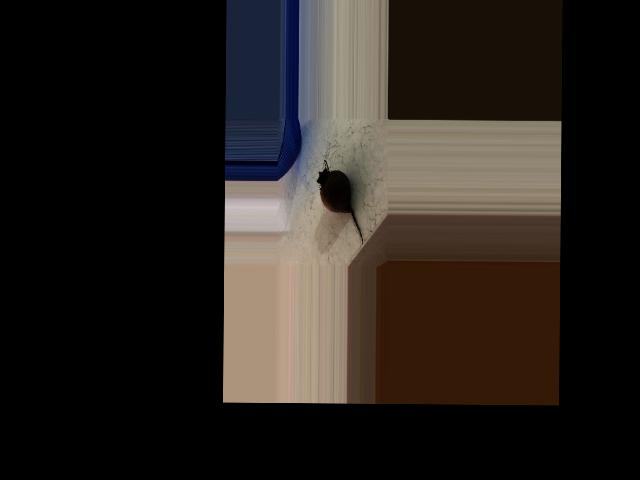beet: (316, 160, 364, 244)
